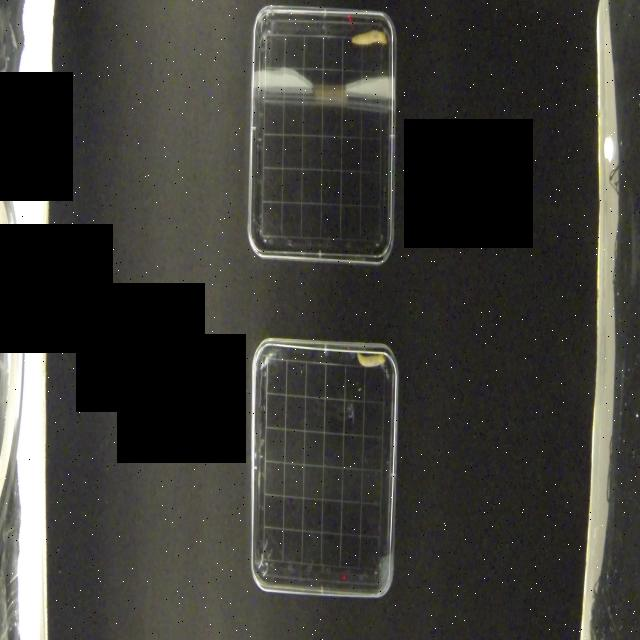larva: (351, 28, 387, 47)
